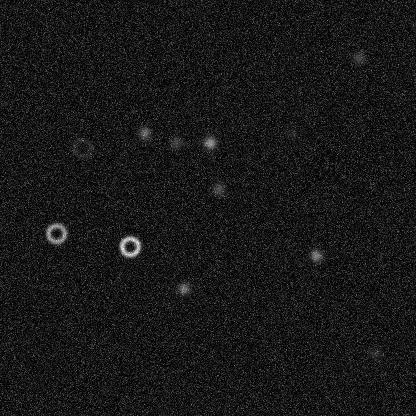Ring: (44, 221, 68, 245), (70, 136, 94, 160), (117, 234, 141, 258)
Spot: (136, 125, 152, 141), (201, 134, 217, 150), (367, 345, 383, 361), (283, 125, 299, 141), (210, 181, 226, 197), (350, 49, 366, 65), (307, 247, 323, 263), (175, 280, 191, 296), (168, 134, 184, 150)
